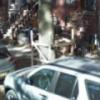cars: (4, 58, 100, 100)
